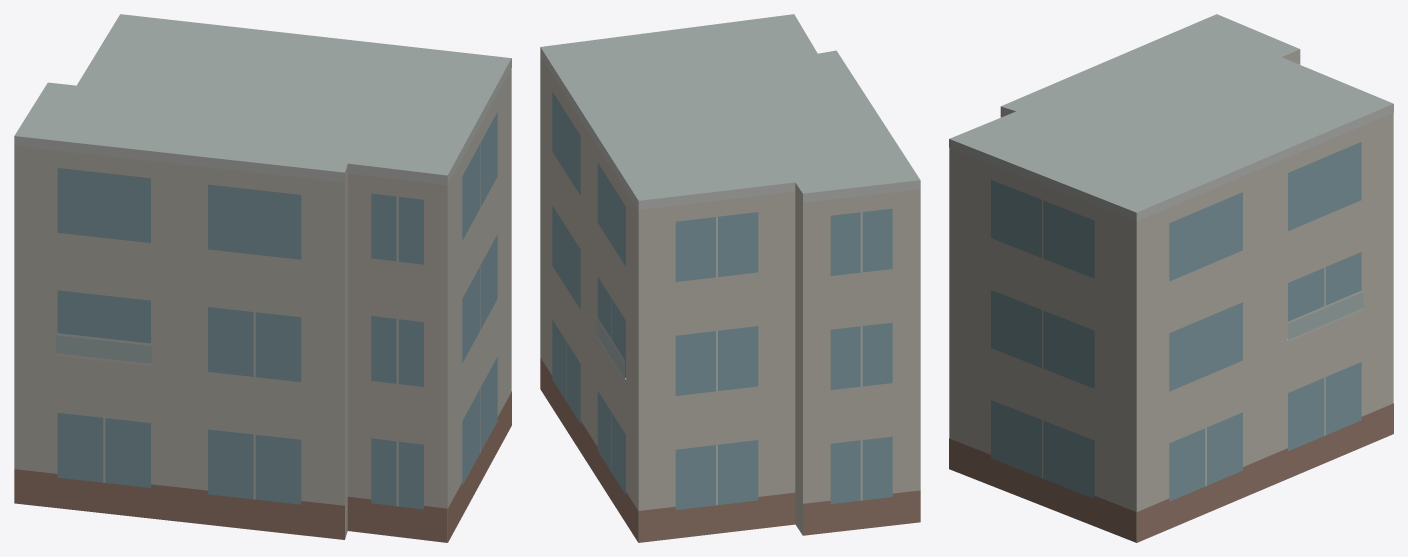
File: survey-upis-32689388.glb
3 renders of one model, left to right at view 1: azimuth 30°, elevation 25°; view 2: azimuth 150°, elevation 25°; view 3: azimuth 270°, elevation 25°, orthographic. The views are drawn at different scales.
Parts seen in each view (by area): view 1: survey-upis-32689388.tmp; view 2: survey-upis-32689388.tmp; view 3: survey-upis-32689388.tmp.
Part boxes in pixels (left/top/right/bottom): survey-upis-32689388.tmp: left=14, top=14, right=511, bottom=542; survey-upis-32689388.tmp: left=540, top=14, right=920, bottom=542; survey-upis-32689388.tmp: left=949, top=14, right=1393, bottom=542.
Bounding box in the file's own units: 11.81 × 9.15 × 11.18.
